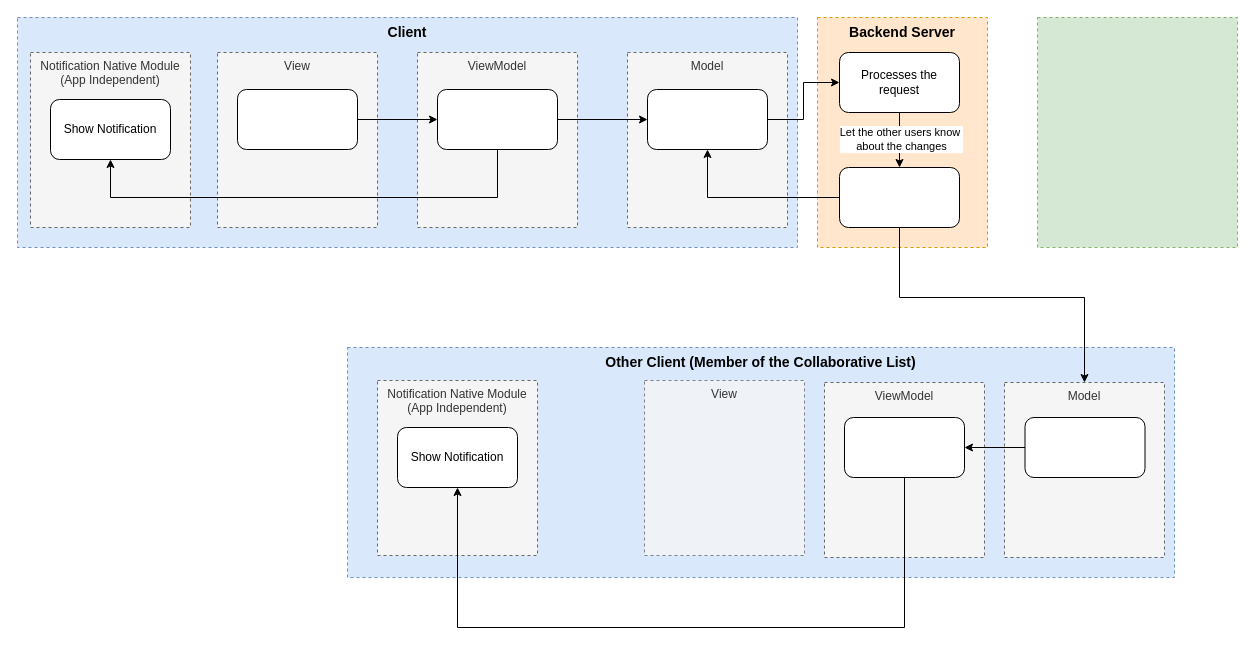
The diagram is 1255 pixels wide and 653 high, and some of its shapes have lost their labels. The centre of each missing label's shape, as x and y in pixels:
API Request to server: point (707, 119)
Calls for a function to show a notification: point (904, 447)
Database (MongoDB): point (1137, 132)
io socket (responsible for sync): point (899, 197)
Randomizes locally and parses the result: point (497, 119)
User has randomized an item: point (1084, 447)
User presses the "Random Item" Button: point (297, 119)
